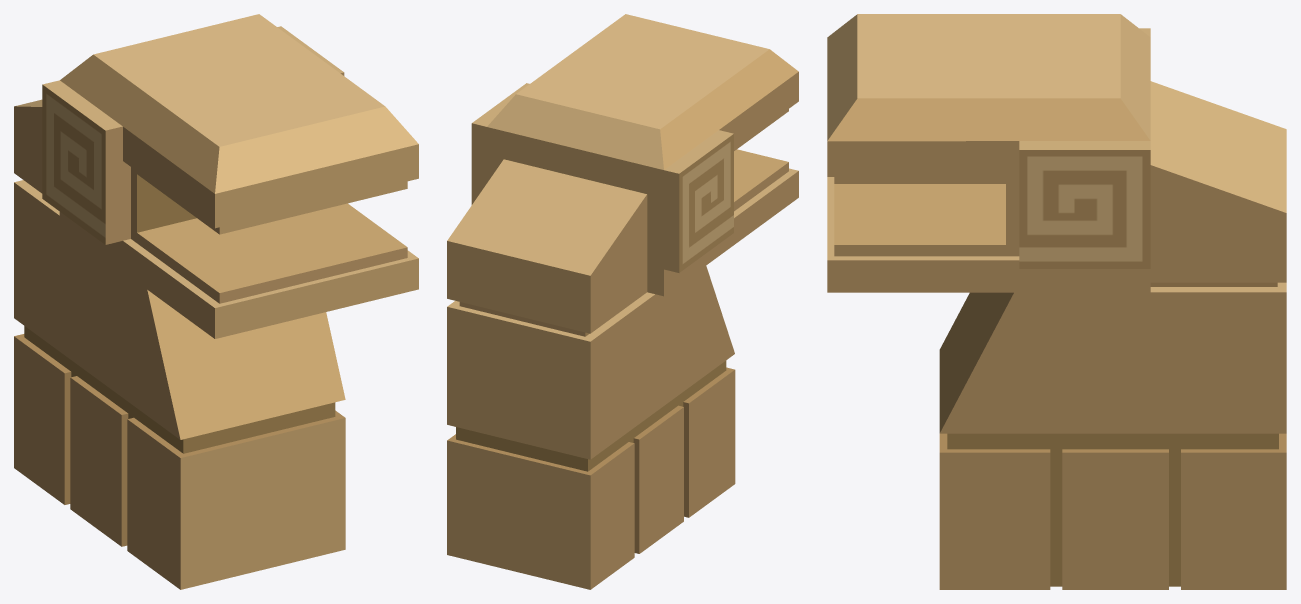
The model's file is Thing.fbx.
3 views of the same model, side by side, from view 1: azimuth 30°, elevation 25°; view 2: azimuth 150°, elevation 25°; view 3: azimuth 270°, elevation 25° (orthographic). The views are drawn at different scales.
Parts seen in each view (by area): view 1: ST_Prop_Statue_01; view 2: ST_Prop_Statue_01; view 3: ST_Prop_Statue_01.
Boxes of the visible parts, <box> form: ST_Prop_Statue_01: <box>14,14,418,589</box>; ST_Prop_Statue_01: <box>447,14,798,589</box>; ST_Prop_Statue_01: <box>827,14,1286,589</box>.
Size of the model in its own units: 0.3936 by 0.7436 by 0.6294.
